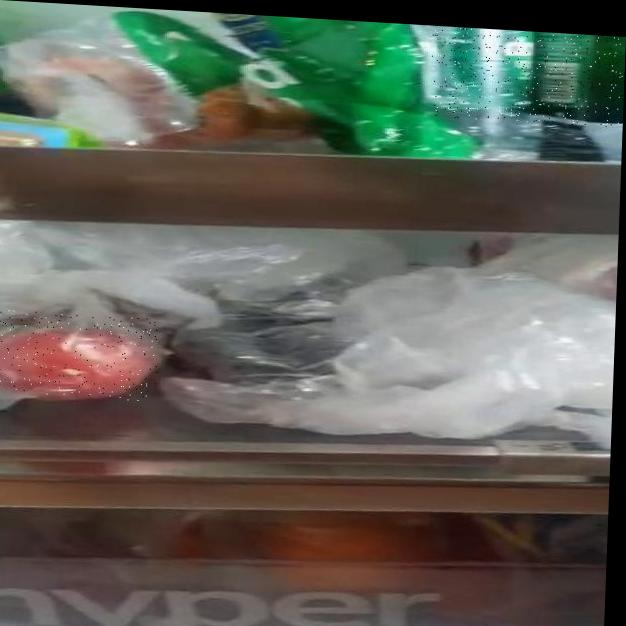mineral water: (430, 27, 625, 128)
tomatoes: (0, 308, 160, 402)
